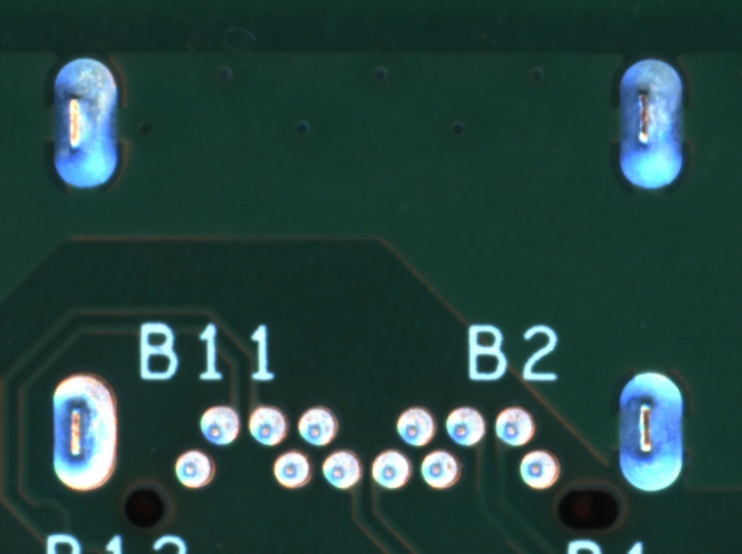SOLDER: (196, 401, 242, 447), (243, 402, 289, 448), (293, 402, 339, 448), (491, 402, 537, 448), (417, 448, 463, 493), (269, 448, 315, 493), (319, 448, 365, 493), (368, 447, 414, 492), (393, 403, 439, 448), (442, 403, 488, 448), (517, 446, 563, 491), (172, 447, 217, 492)
SOLDER2: (606, 354, 694, 510), (608, 49, 696, 205), (38, 359, 126, 515), (39, 48, 127, 204)
